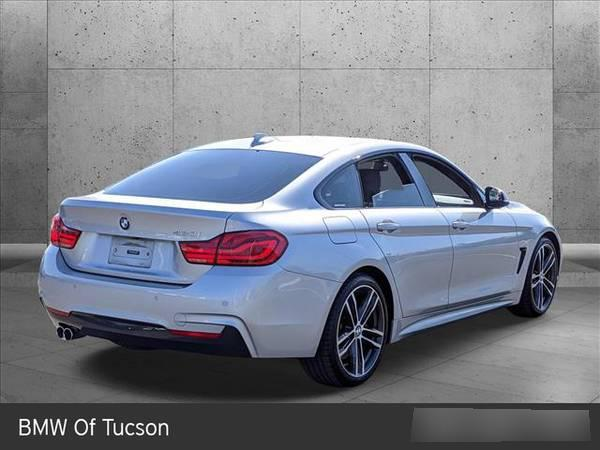Front_Fender: (505, 202, 561, 300)
Front_Right_Door: (441, 208, 521, 319)
Front_Right_Window: (405, 151, 501, 208)
Left_Taillight: (49, 213, 81, 252)
Rear_Bumper: (38, 244, 342, 357)
Rear_Fender: (222, 157, 382, 279)
Rear_Right_Door: (361, 208, 454, 340)
Rear_Right_Window: (357, 148, 435, 208)
Rear_Windshield: (103, 150, 319, 205)
Right_Taillight: (180, 229, 292, 267)
Roof: (192, 131, 500, 205)
Tailgate: (60, 193, 262, 284)
Wheel: (326, 274, 393, 384), (525, 239, 559, 317)
